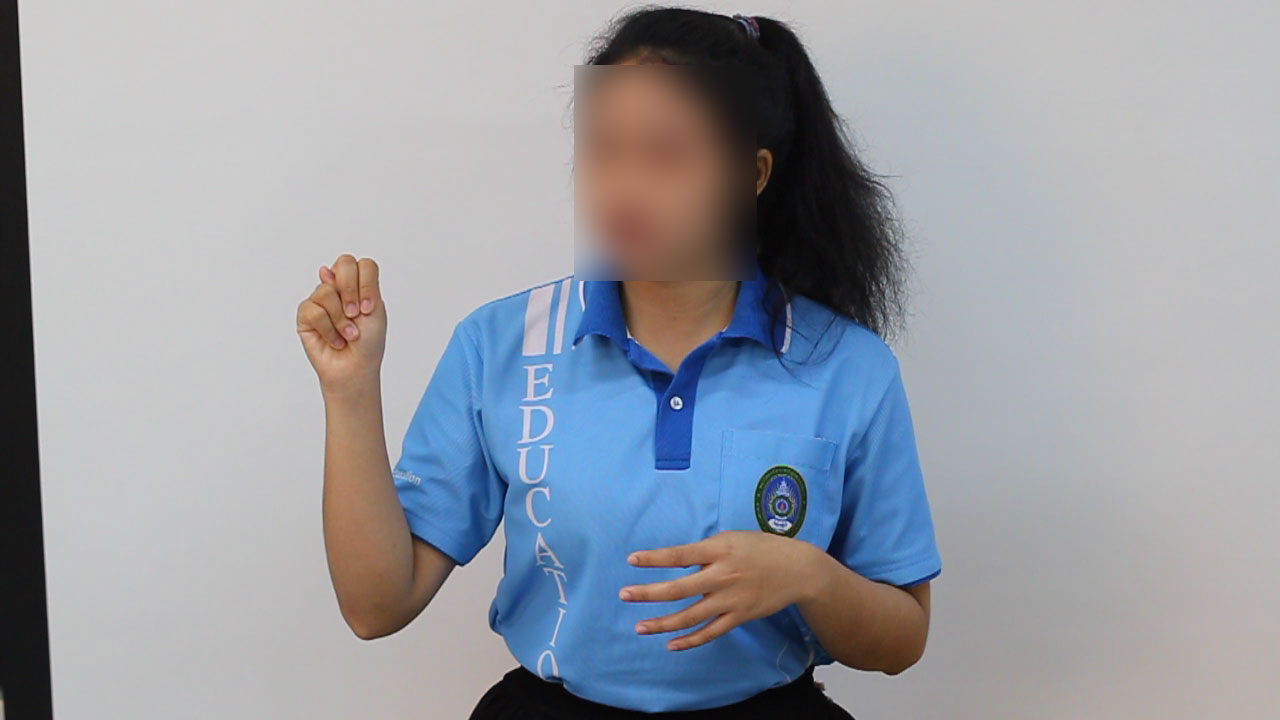nor: (293, 241, 396, 397)
